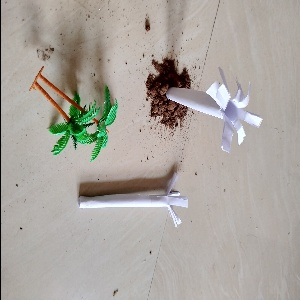plant: (27, 67, 118, 154)
weed: (157, 63, 261, 152), (68, 169, 197, 230)
